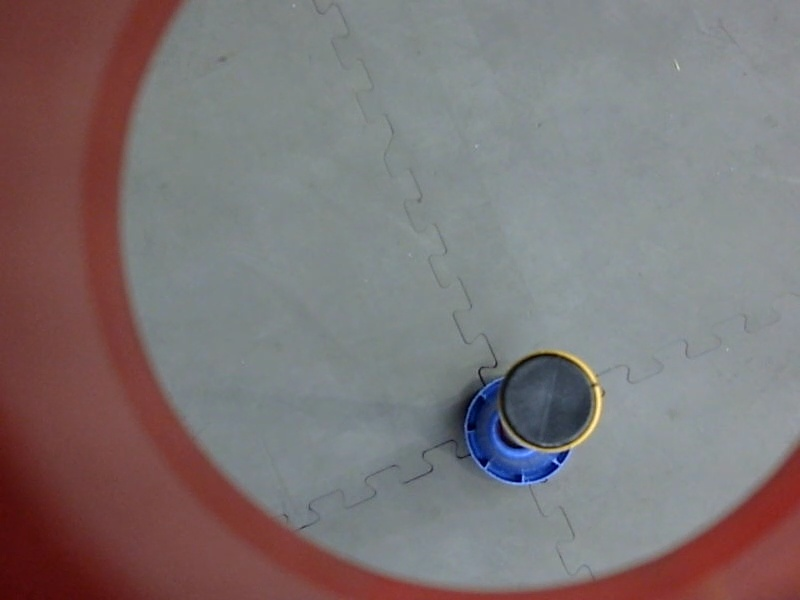tip: (493, 341, 606, 458)
